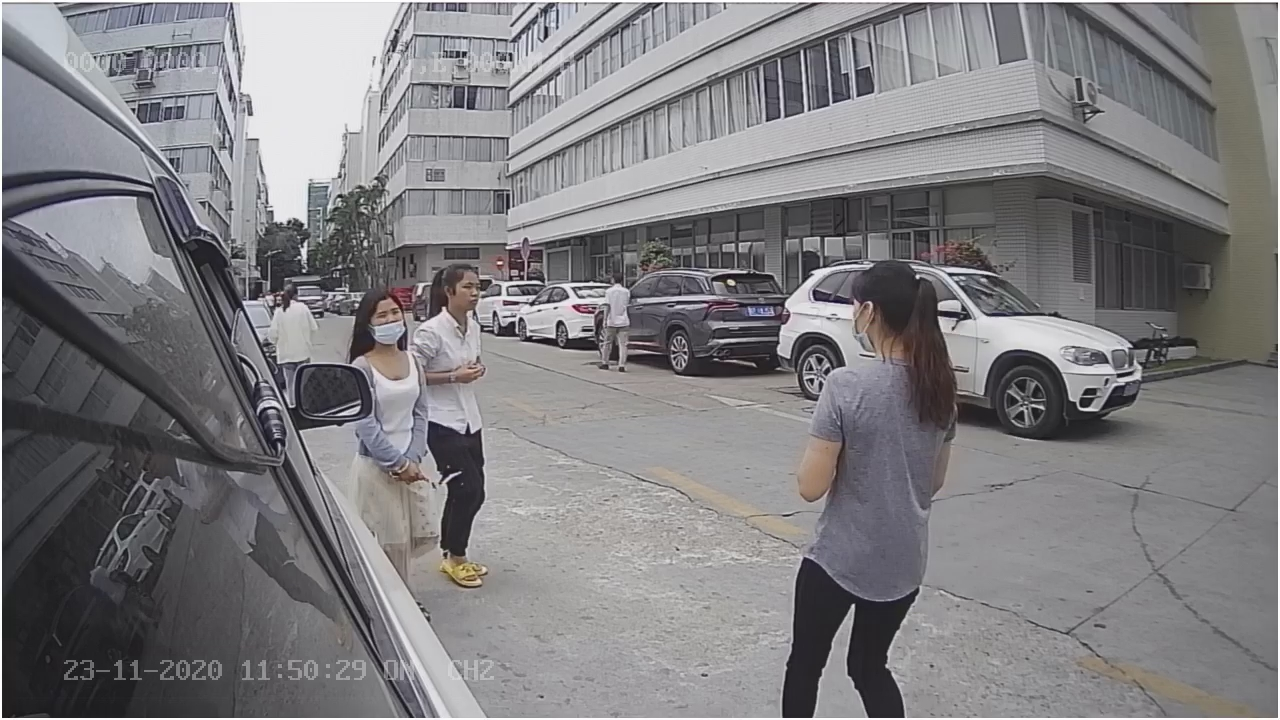person: (788, 254, 985, 508)
